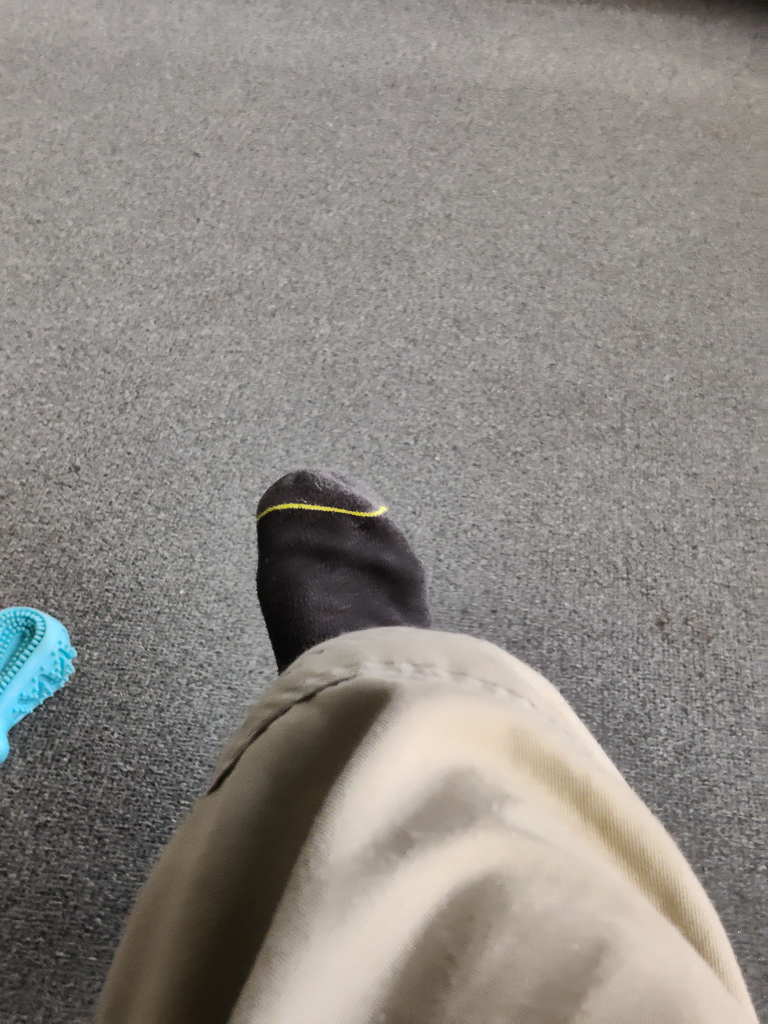Humanoid: (84, 458, 768, 1024)
